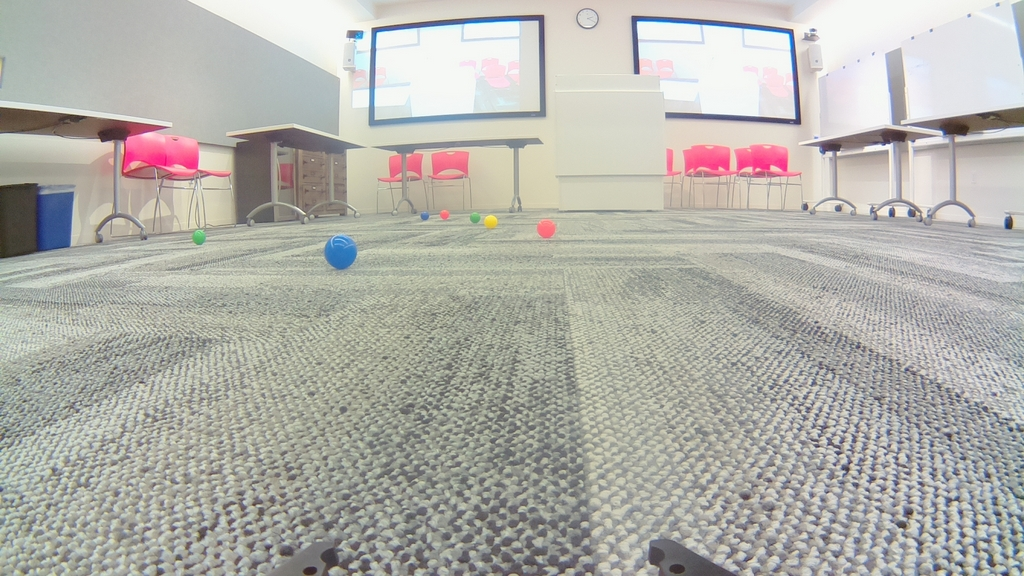ball: (483, 215, 497, 230)
